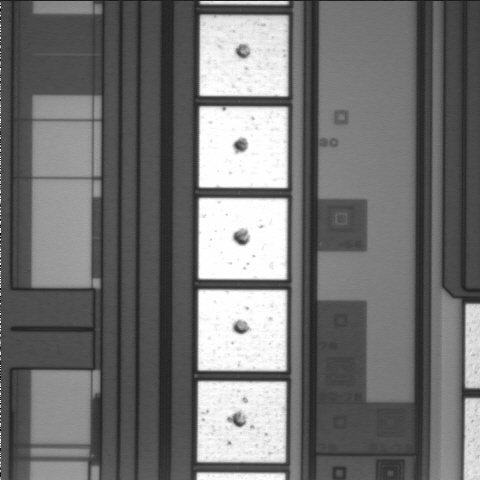pad: (199, 106, 288, 188), (198, 198, 287, 280), (197, 381, 286, 463), (198, 290, 287, 371), (200, 15, 288, 96)
